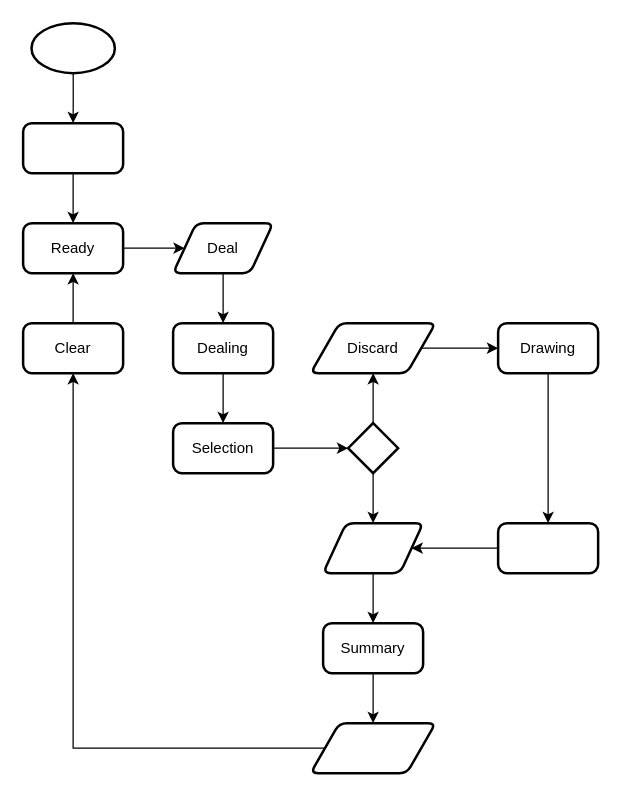
Image size: 620x795. Some labels were removed from this diagram. The shapes that lost their labels are listed below. From the top down, each one's centre as x and y in pixels, then its label:
At (72,147): "Preparing".
At (372,547): "Finish".
At (547,547): "Result".
At (372,747): "Continue".
